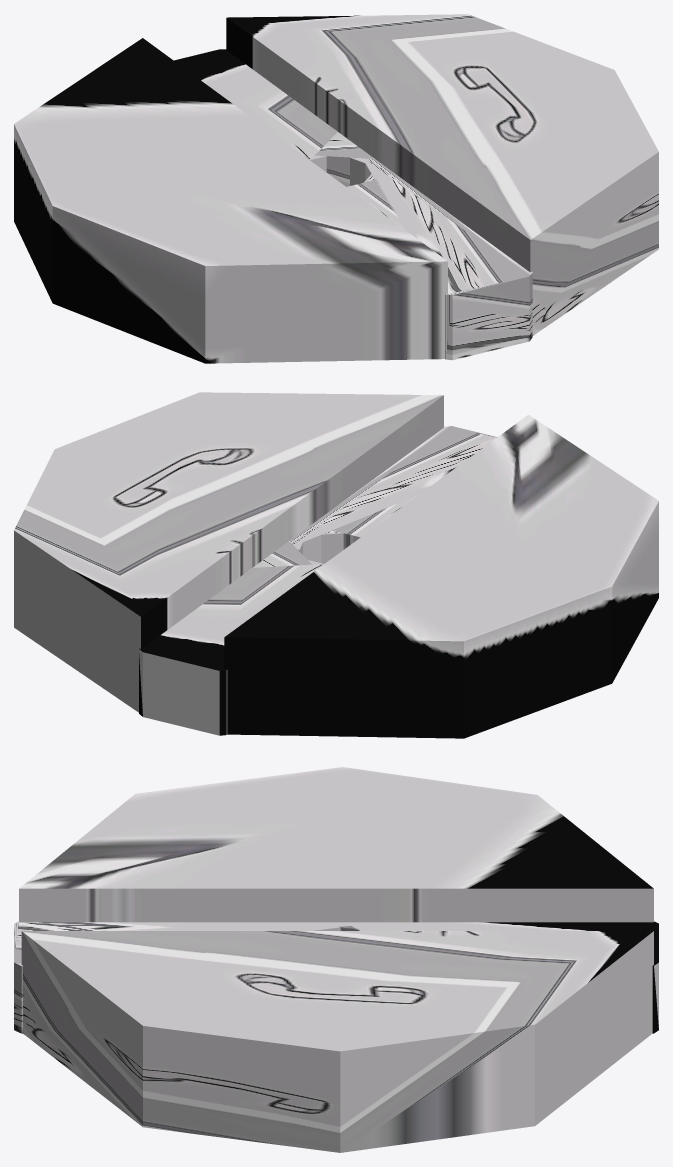
The model's file is Coin.glb.
3 renders of one model, top to bottom at view 1: azimuth 30°, elevation 25°; view 2: azimuth 150°, elevation 25°; view 3: azimuth 270°, elevation 25°, orthographic. The views are drawn at different scales.
Visible parts, largest first — view 1: Coin; view 2: Coin; view 3: Coin.
Boxes of the visible parts, box(x1,y1,x2,y2) form: Coin: box(14, 14, 658, 363); Coin: box(14, 392, 658, 738); Coin: box(14, 767, 658, 1152).
Bounding box in the file's own units: 20.29 × 3.38 × 19.44.
Materials: 1 (1 with a texture image).
